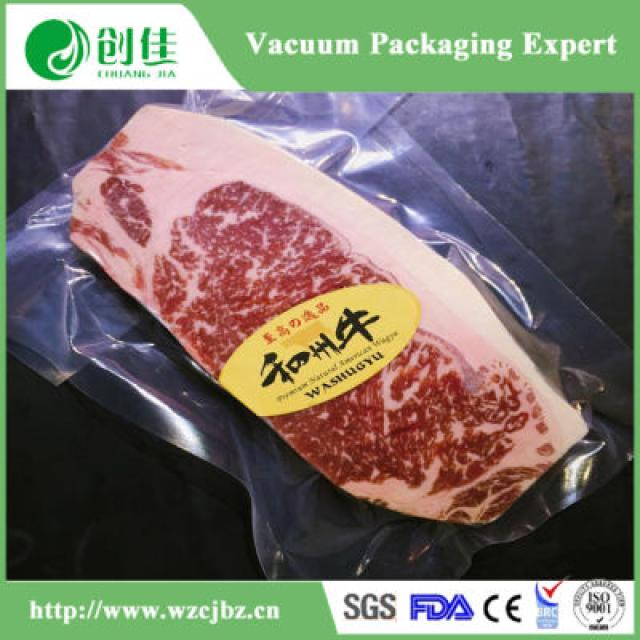pork: (47, 85, 607, 531)
